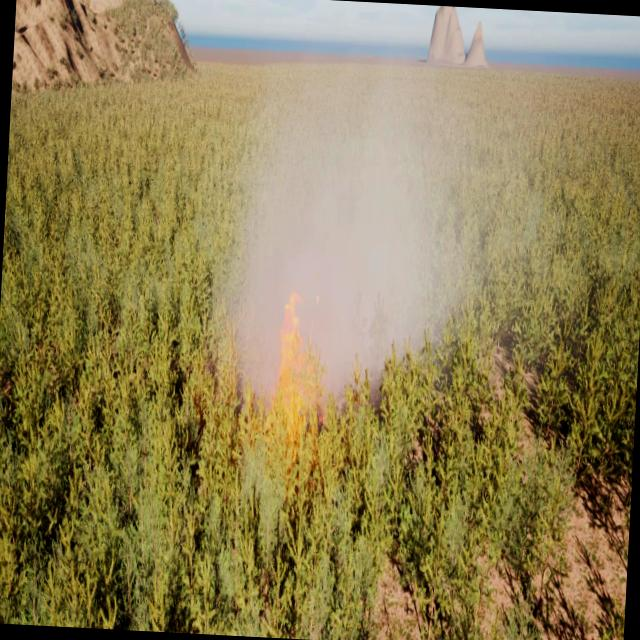fire: (272, 280, 324, 424)
smoke: (201, 43, 538, 436)
